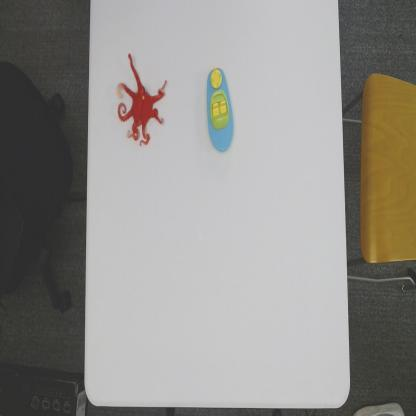Boat: (206, 63, 235, 153)
Octopus: (116, 52, 168, 148)
